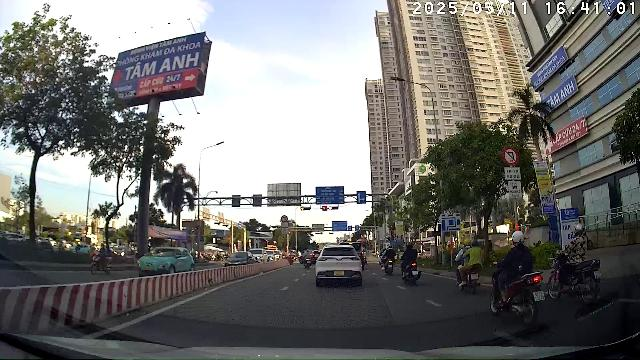103c-cam-oto-re-trai: (502, 146, 519, 166)
